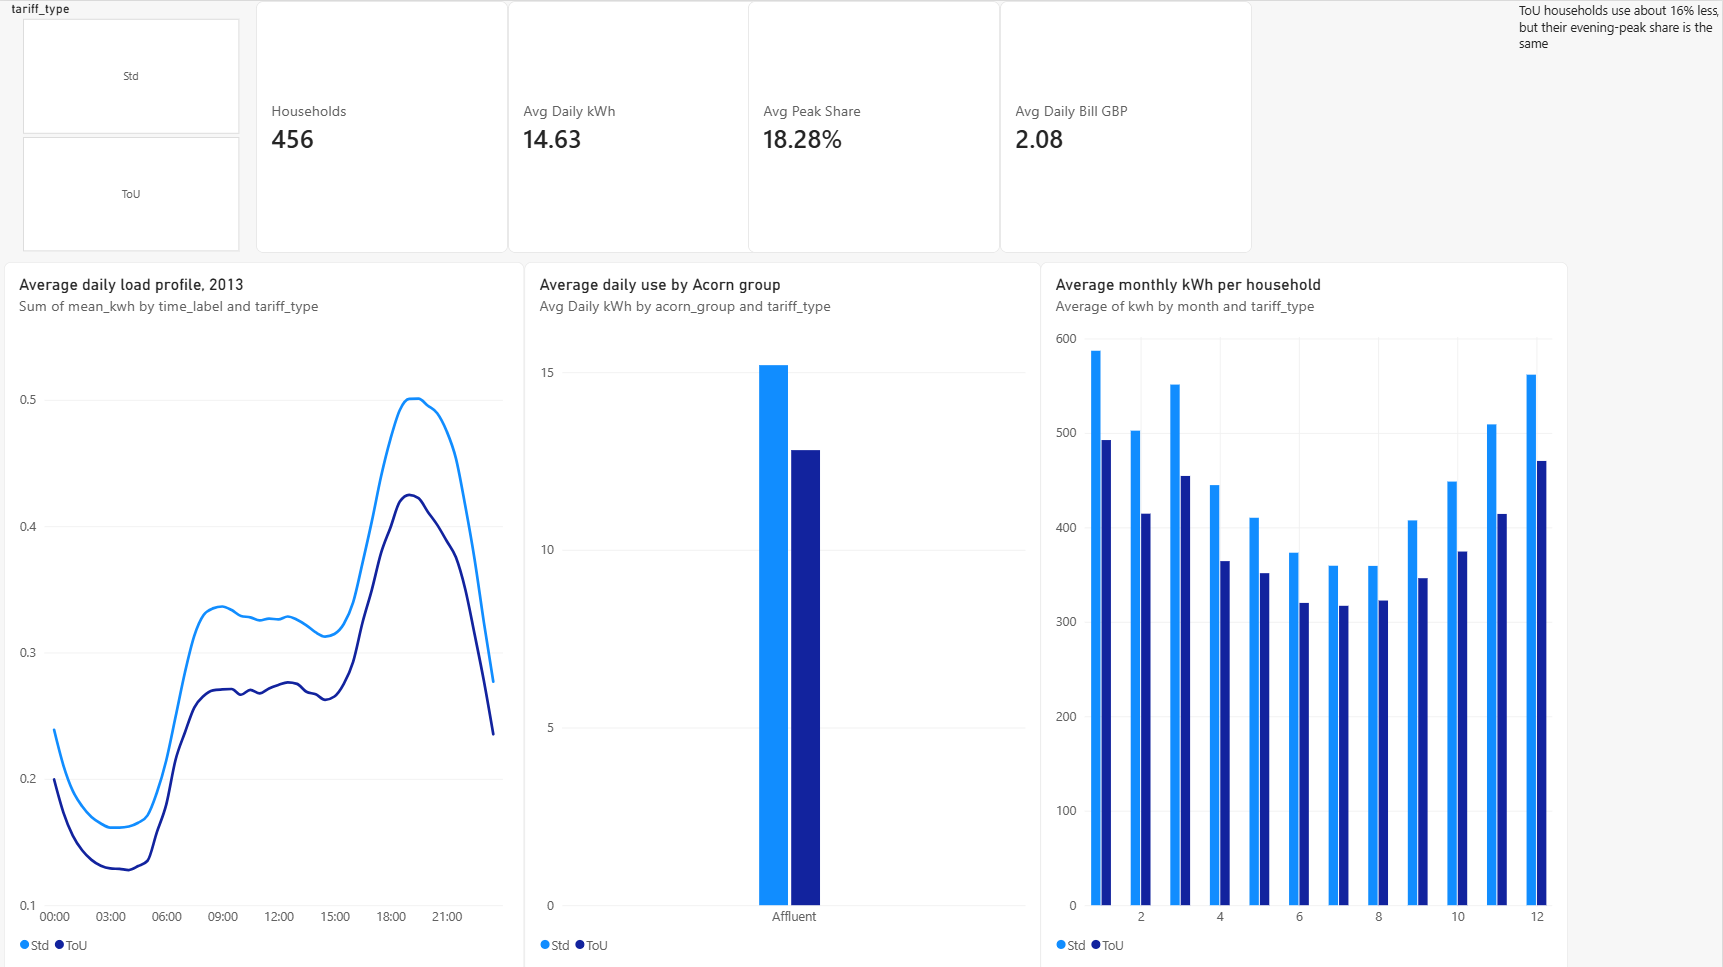

Layout of this report page (visuals, bound fields, positions):
{"tool":"powerbi","page":{"name":"Household Demand","canvas":[1920,1080],"ordinal":1},"visuals":[{"type":"slicer","fields":{"Values":["Tariffs.tariff_type"]},"box":[10,0,280,280],"z":0},{"type":"cardVisual","fields":{"Data":["household_day.Households"]},"box":[290,0,280,280],"z":1},{"type":"cardVisual","fields":{"Data":["household_day.Avg Daily kWh"]},"box":[570,0,280,280],"z":2},{"type":"cardVisual","fields":{"Data":["household_day.Avg Daily Bill GBP"]},"box":[1116,0,280,280],"z":3},{"type":"cardVisual","fields":{"Data":["household_day.Avg Peak Share"]},"box":[836,0,280,280],"z":4},{"type":"lineChart","title":"Average daily load profile, 2013","fields":{"Category":["profile_by_tariff.time_label"],"Series":["profile_by_tariff.tariff_type"],"Y":["Sum(profile_by_tariff.mean_kwh)"]},"box":[10,290,578,790],"z":5},{"type":"clusteredColumnChart","title":"Average daily use by Acorn group","fields":{"Category":["household_day.acorn_group"],"Series":["household_day.tariff_type"],"Y":["household_day.Avg Daily kWh"]},"box":[588,290,574,790],"z":6},{"type":"clusteredColumnChart","title":"Average monthly kWh per household","fields":{"Category":["household_month.month"],"Series":["household_month.tariff_type"],"Y":["Avg(household_month.kwh)"]},"box":[1162,290,586,790],"z":7},{"type":"textbox","box":[1694,0,226,280],"z":8}]}

Visuals, with their boxes in screenshot pixels (x1, y1, x2, y2), scaled from the page's 1920x1080 canvas onto the 1723x967 screenshot:
slicer - Tariffs.tariff_type: pyautogui.locateOnScreen(9, 0, 260, 251)
cardVisual - household_day.Households: pyautogui.locateOnScreen(260, 0, 512, 251)
cardVisual - household_day.Avg Daily kWh: pyautogui.locateOnScreen(512, 0, 763, 251)
cardVisual - household_day.Avg Daily Bill GBP: pyautogui.locateOnScreen(1001, 0, 1253, 251)
cardVisual - household_day.Avg Peak Share: pyautogui.locateOnScreen(750, 0, 1001, 251)
"Average daily load profile, 2013" lineChart: pyautogui.locateOnScreen(9, 260, 528, 966)
"Average daily use by Acorn group" clusteredColumnChart: pyautogui.locateOnScreen(528, 260, 1043, 966)
"Average monthly kWh per household" clusteredColumnChart: pyautogui.locateOnScreen(1043, 260, 1569, 966)
textbox: pyautogui.locateOnScreen(1520, 0, 1722, 251)
